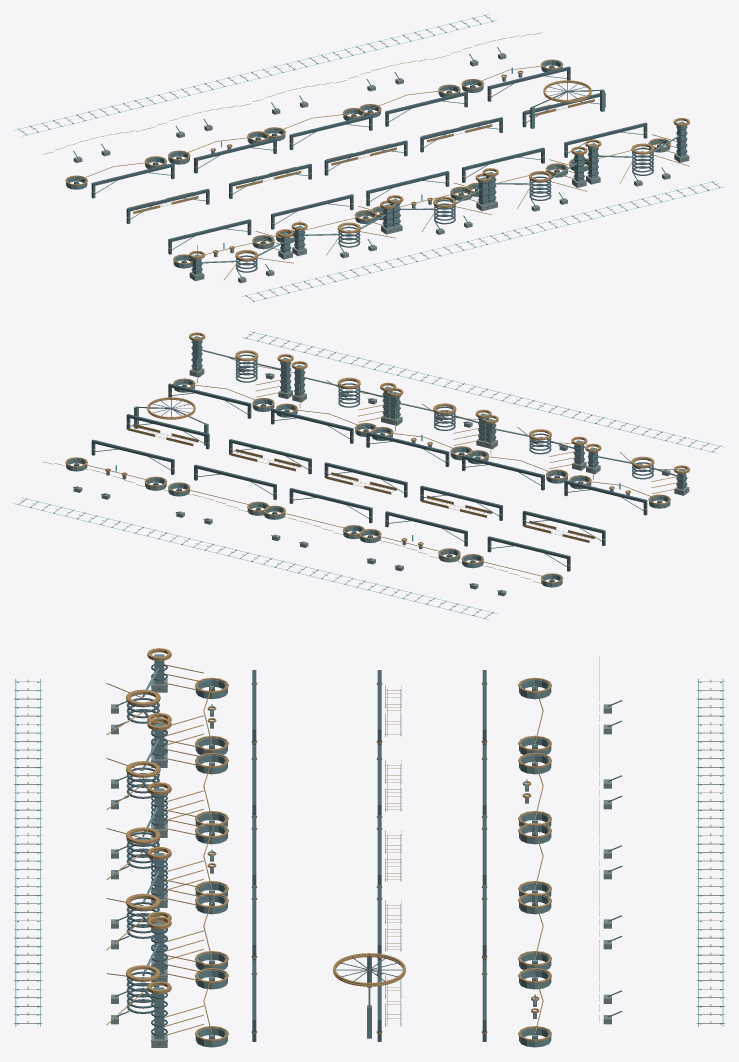
The model's file is blackwater-reclamation.glb.
3 views of the same model, one above another, from view 1: azimuth 30°, elevation 25°; view 2: azimuth 150°, elevation 25°; view 3: azimuth 270°, elevation 25° (orthographic). The views are drawn at different scales.
Visible parts, largest first — view 1: DistrictAssemblies_steel, DistrictAssemblies_hazard, DistrictAssemblies_oxidized, DistrictAssemblies_concrete, DistrictAssemblies_lamp; view 2: DistrictAssemblies_steel, DistrictAssemblies_hazard, DistrictAssemblies_oxidized, DistrictAssemblies_concrete, DistrictAssemblies_lamp; view 3: DistrictAssemblies_hazard, DistrictAssemblies_oxidized, DistrictAssemblies_steel, DistrictAssemblies_concrete, DistrictAssemblies_lamp.
Boxes of the visible parts, left/top/right/bottom form: DistrictAssemblies_steel: left=19, top=18, right=719, bottom=301; DistrictAssemblies_hazard: left=21, top=17, right=717, bottom=298; DistrictAssemblies_oxidized: left=18, top=14, right=720, bottom=301; DistrictAssemblies_concrete: left=73, top=53, right=689, bottom=283; DistrictAssemblies_lamp: left=14, top=14, right=724, bottom=302; DistrictAssemblies_steel: left=19, top=335, right=719, bottom=618; DistrictAssemblies_hazard: left=21, top=332, right=717, bottom=615; DistrictAssemblies_oxidized: left=18, top=331, right=720, bottom=618; DistrictAssemblies_concrete: left=73, top=367, right=689, bottom=596; DistrictAssemblies_lamp: left=14, top=331, right=724, bottom=619; DistrictAssemblies_hazard: left=27, top=648, right=711, bottom=1041; DistrictAssemblies_oxidized: left=14, top=654, right=724, bottom=1047; DistrictAssemblies_steel: left=17, top=664, right=721, bottom=1044; DistrictAssemblies_concrete: left=111, top=678, right=611, bottom=1047; DistrictAssemblies_lamp: left=15, top=678, right=723, bottom=1026.
Size of the model in its own units: 429 by 31.75 by 352.
